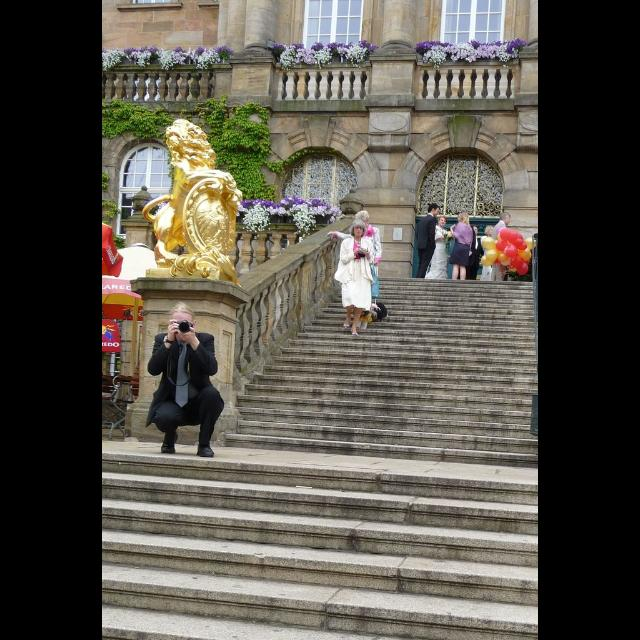Flower: (102, 36, 526, 74), (266, 196, 342, 237), (245, 201, 267, 233)
